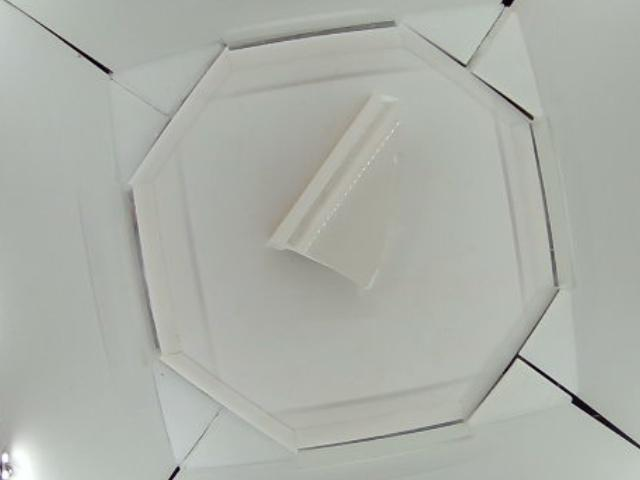China: (262, 94, 401, 288)
